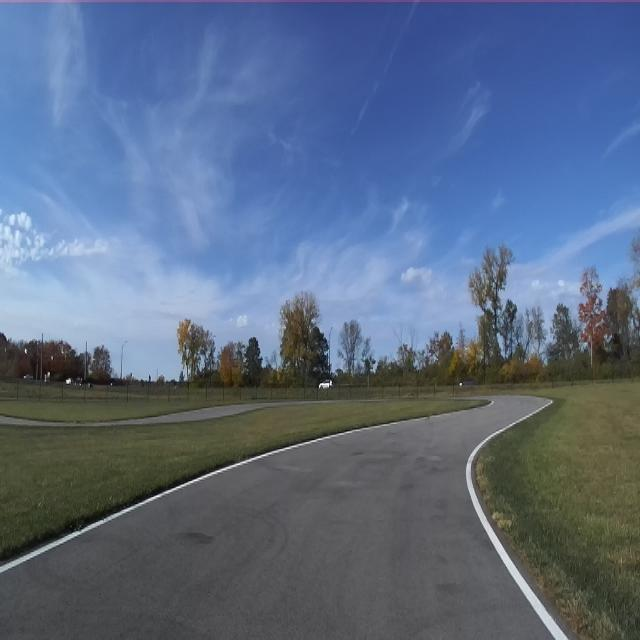white-line: (0, 404, 492, 573), (466, 401, 567, 639)
